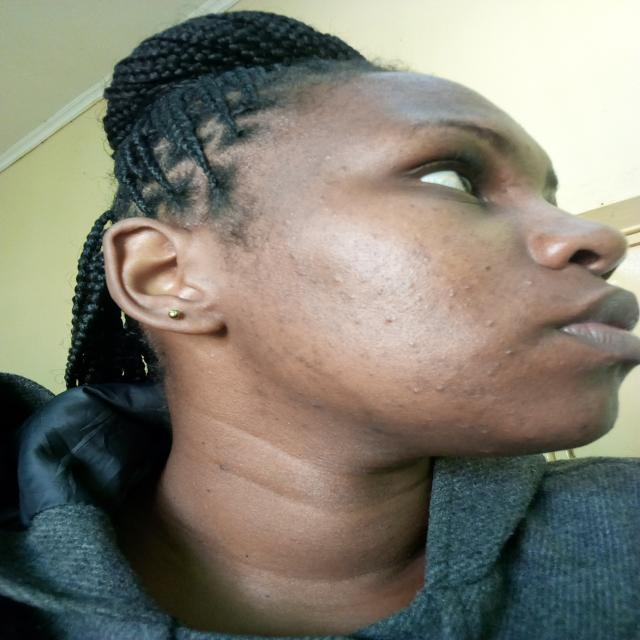Acne: (270, 344, 324, 374), (447, 280, 481, 304), (380, 302, 400, 330), (462, 386, 493, 403), (318, 348, 339, 371), (405, 335, 426, 355), (346, 311, 367, 331), (290, 268, 316, 284), (324, 167, 354, 180), (405, 384, 428, 400), (283, 251, 306, 264), (403, 280, 421, 296), (319, 151, 340, 164), (578, 419, 600, 431), (340, 292, 361, 304), (280, 214, 294, 232), (506, 348, 524, 360), (484, 368, 501, 379), (437, 382, 449, 397), (522, 431, 538, 442), (332, 272, 346, 284), (486, 320, 500, 330), (478, 422, 489, 434), (530, 278, 538, 292), (305, 156, 315, 166), (484, 449, 492, 459)
Eyebags: (397, 181, 503, 213)
